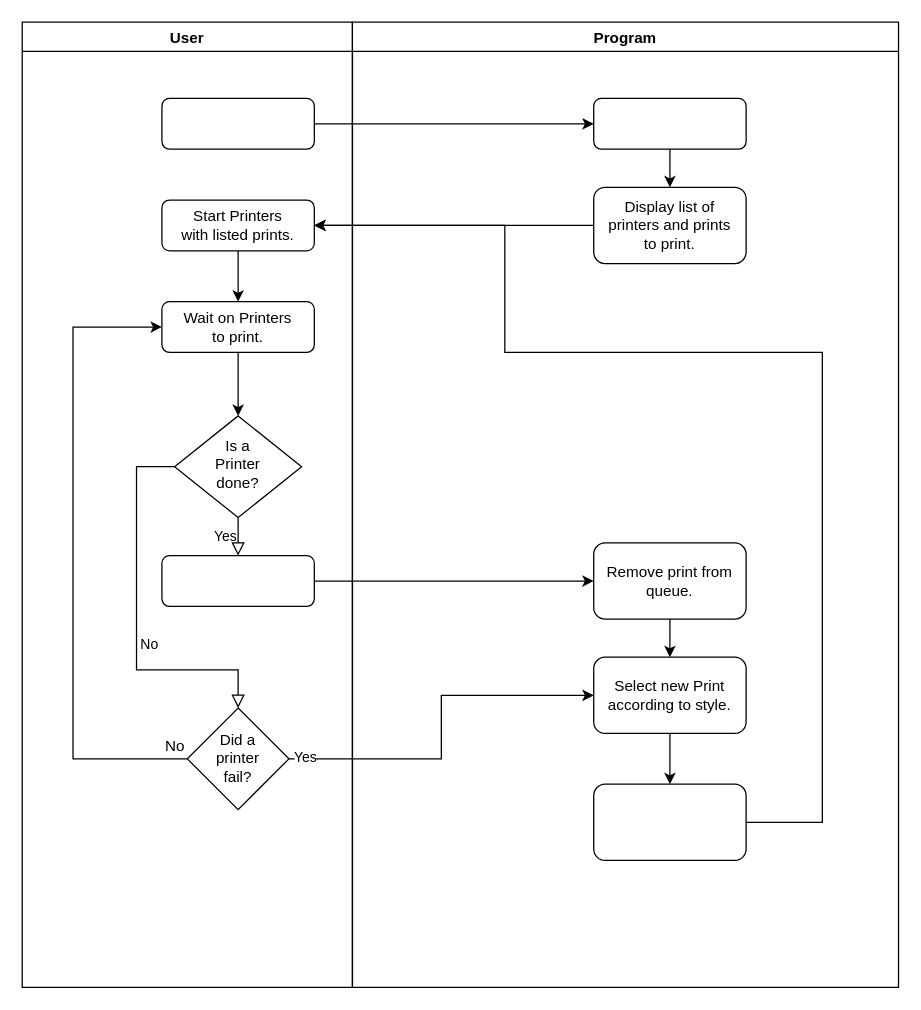
The diagram is 921 pixels wide and 1010 high, and some of its shapes have lost their labels. The box of each missing label's shape, as (x1, y1, x2, y2) in pixels:
Assign print to printer: (592, 783, 746, 860)
Load Queue: (592, 97, 746, 149)
Register Printer Completion: (161, 554, 314, 606)
Start Program: (161, 97, 314, 149)
